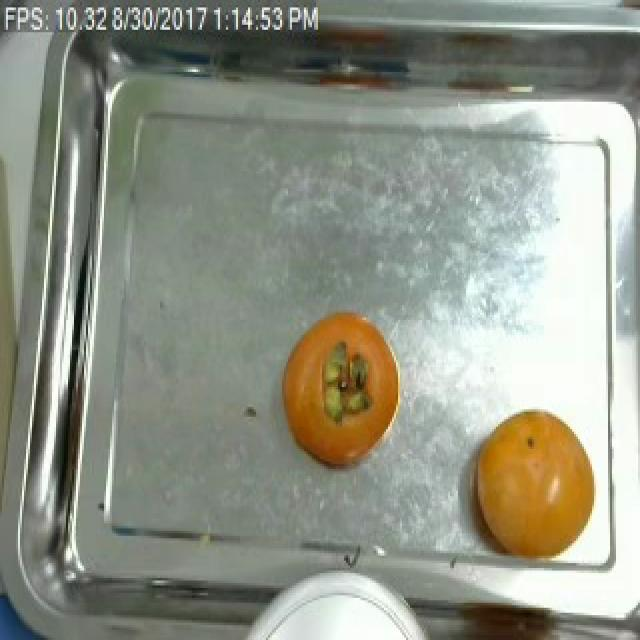Fruit: (452, 397, 604, 585), (268, 300, 408, 481)
